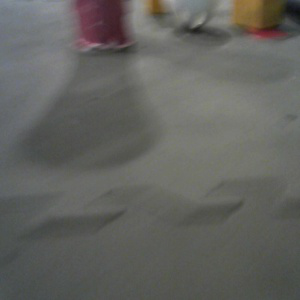middle: (73, 1, 139, 53)
